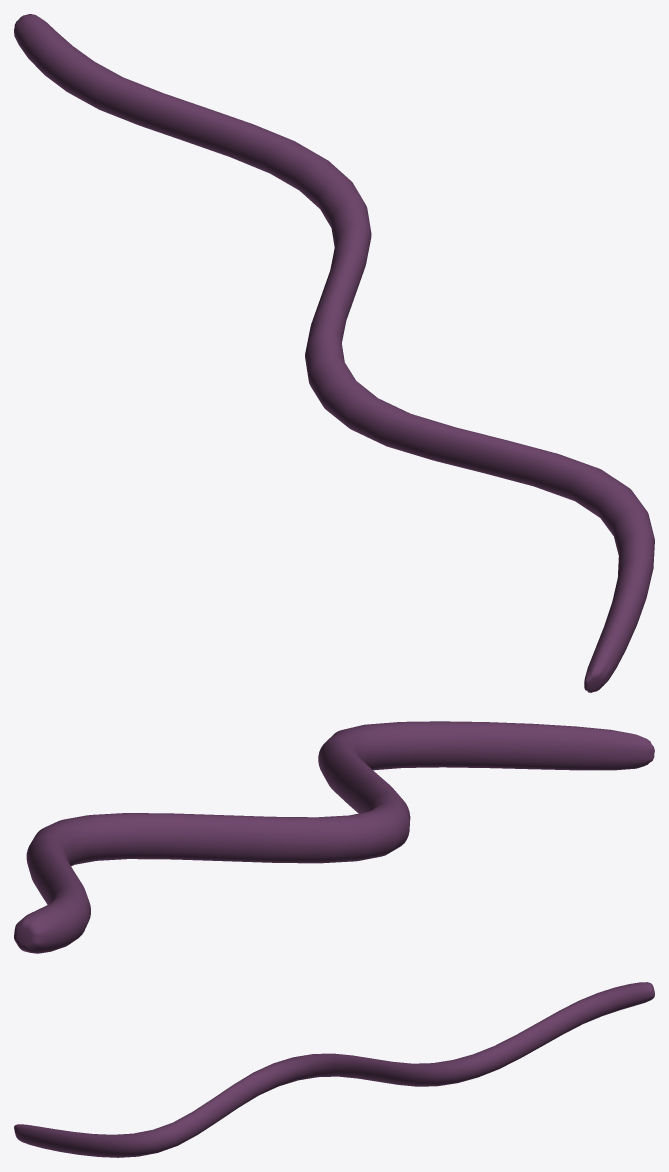
Rendered from frame_3.obj.
3 views of the same model, one above another, from view 1: azimuth 30°, elevation 25°; view 2: azimuth 150°, elevation 25°; view 3: azimuth 270°, elevation 25° (orthographic). The views are drawn at different scales.
Parts seen in each view (by area): view 1: worm2; view 2: worm2; view 3: worm2.
Part boxes in pixels (box(x1,y1,x2,y2)): worm2: box(14, 14, 654, 692); worm2: box(14, 721, 654, 953); worm2: box(14, 982, 654, 1157).
Size of the model in its own units: 330 by 459 by 1730.
